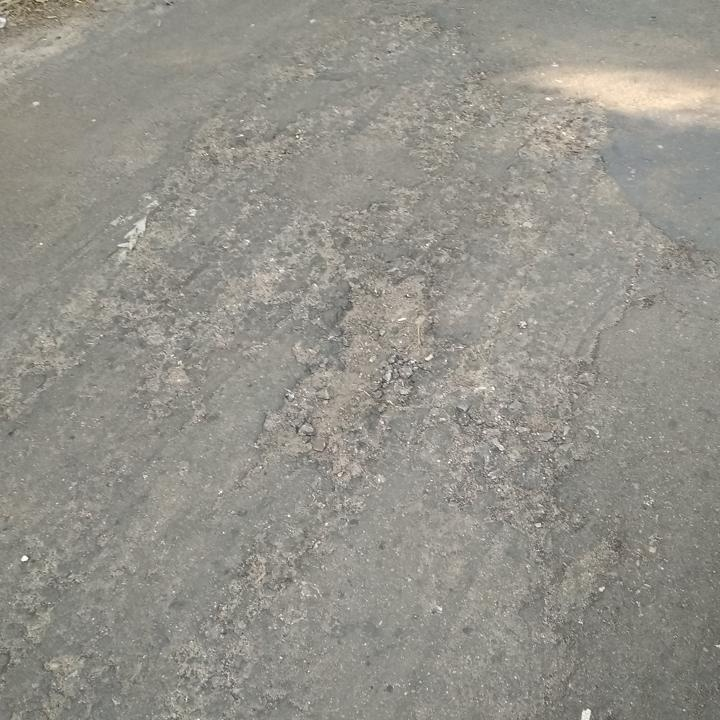pothole: (252, 262, 445, 474)
